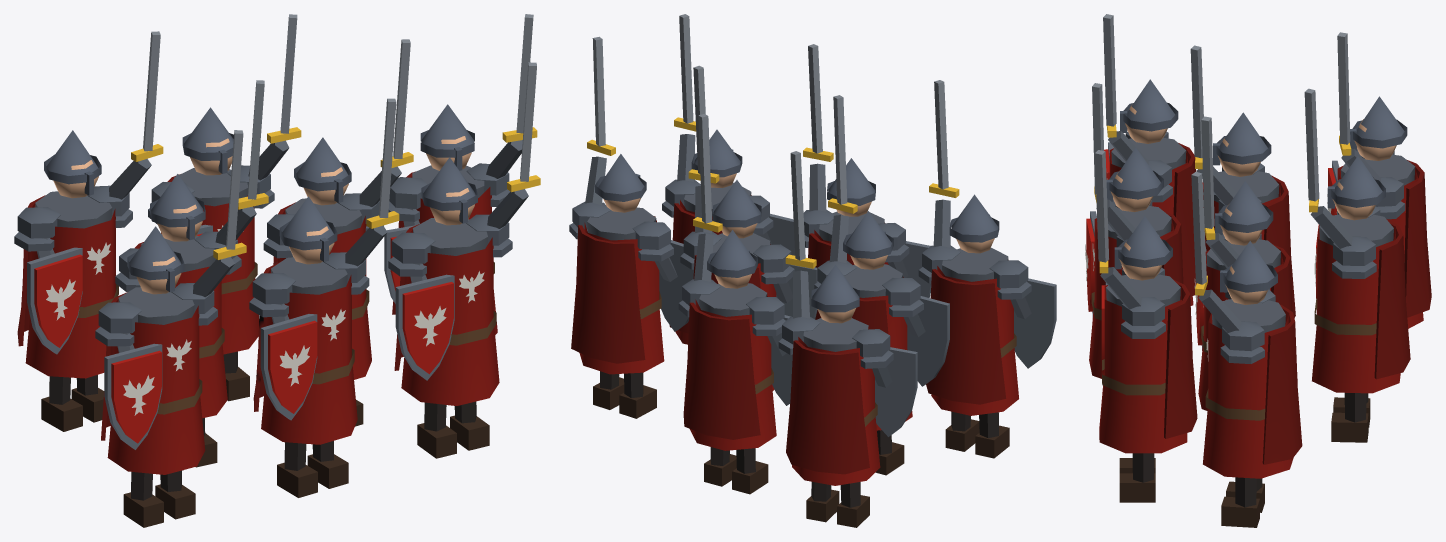
File: squad_dl3_red.glb
3 views of the same model, side by side, from view 1: azimuth 30°, elevation 25°; view 2: azimuth 150°, elevation 25°; view 3: azimuth 270°, elevation 25° (orthographic). The views are drawn at different scales.
Parts seen in each view (by area): view 1: squad_dl3_red; view 2: squad_dl3_red; view 3: squad_dl3_red.
Boxes of the visible parts, x1,y1,x2,y2 form: squad_dl3_red: (14, 14, 540, 527); squad_dl3_red: (569, 14, 1056, 527); squad_dl3_red: (1085, 14, 1431, 527).
Size of the model in its own units: 0.6965 by 0.5323 by 0.4565.
1 material, 1 textured.
